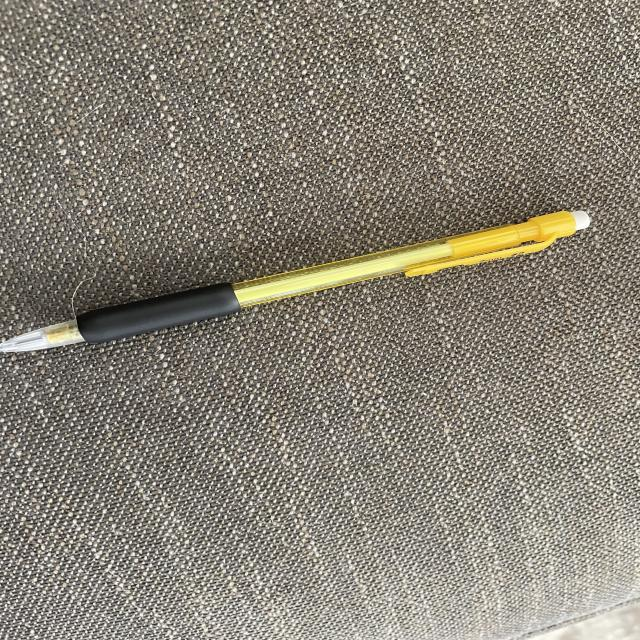mechanical-pencils: (4, 204, 604, 366)
